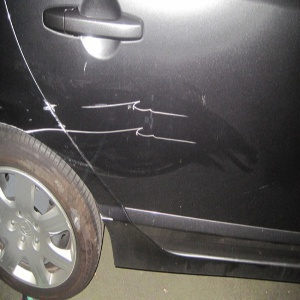door_scratch: (38, 92, 210, 144)
